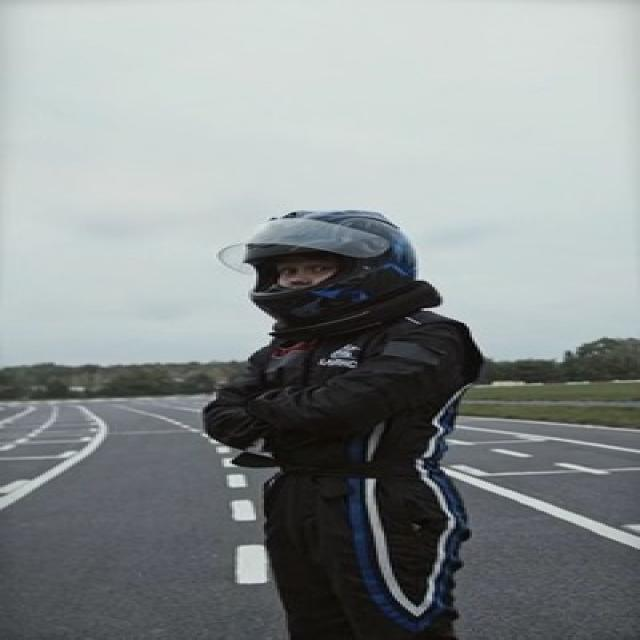Helmet_Wearer: (216, 210, 438, 326)
Jacket_Wearer: (209, 305, 498, 484)
Person: (192, 204, 505, 637)
